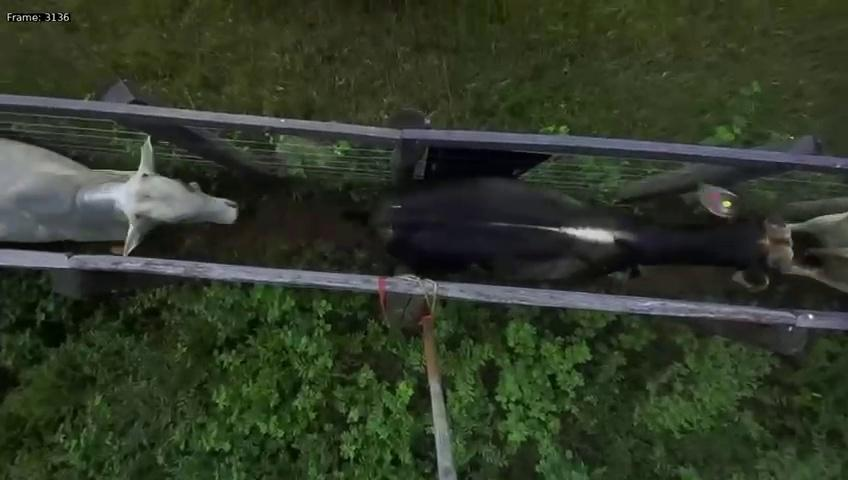cattle: (358, 168, 801, 300)
